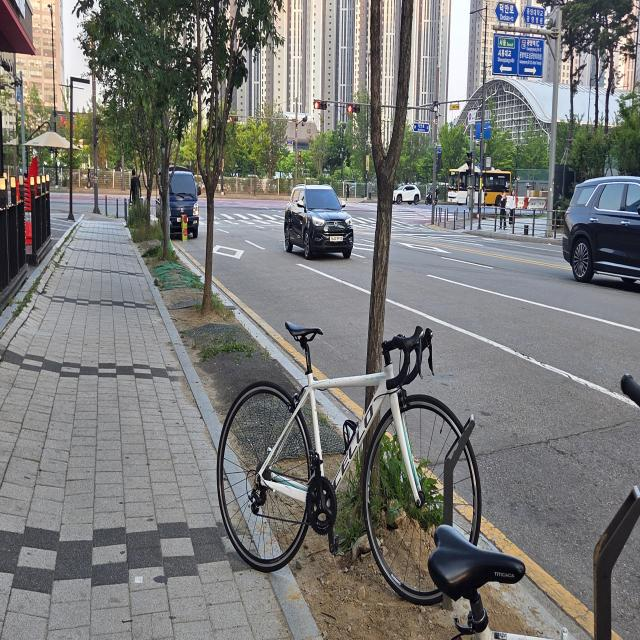bicycle: (192, 276, 508, 610)
car: (555, 160, 640, 298), (275, 165, 365, 278), (156, 160, 212, 256)
